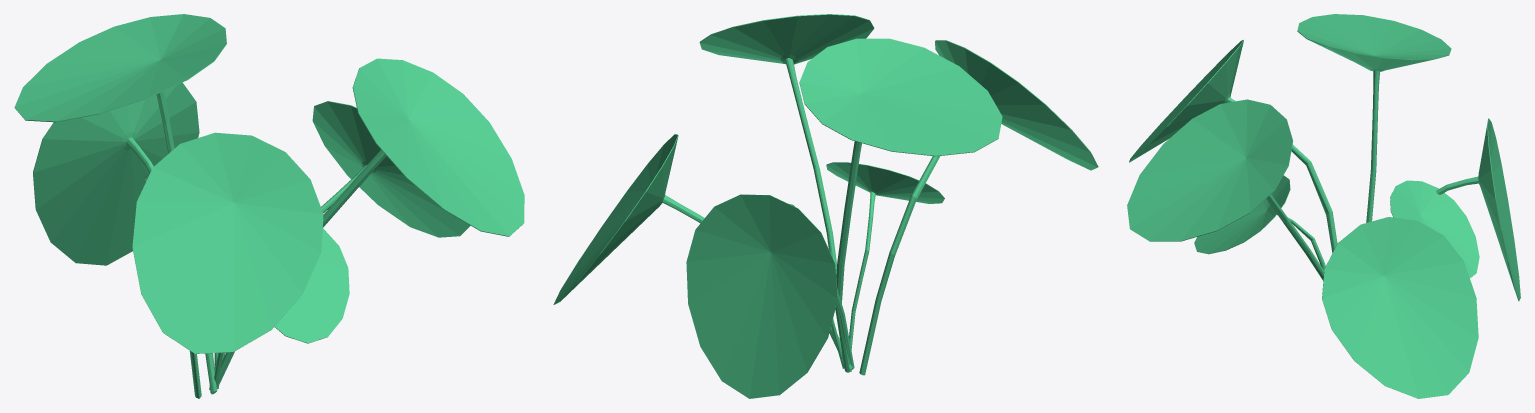
File: ufopflanze.fbx
3 views of the same model, side by side, from view 1: azimuth 30°, elevation 25°; view 2: azimuth 150°, elevation 25°; view 3: azimuth 270°, elevation 25° (orthographic). The views are drawn at different scales.
Parts seen in each view (by area): view 1: ufopflanze; view 2: ufopflanze; view 3: ufopflanze.
Part boxes in pixels (<box>): ufopflanze: <box>14,14,524,398</box>; ufopflanze: <box>553,14,1098,398</box>; ufopflanze: <box>1127,14,1520,398</box>.
Bounding box in the file's own units: 114 × 86.99 × 106.
